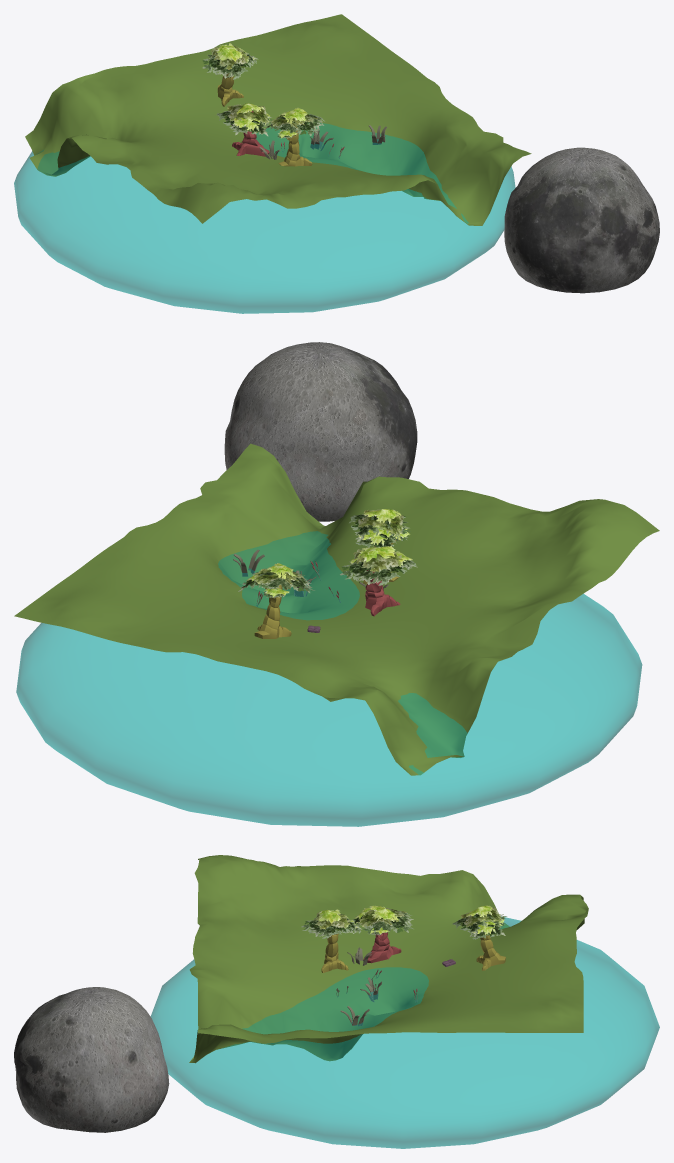
File: forest_environment_02.fbx
3 renders of one model, top to bottom at view 1: azimuth 30°, elevation 25°; view 2: azimuth 150°, elevation 25°; view 3: azimuth 270°, elevation 25°, orthographic. The views are drawn at different scales.
Visible parts, largest first — view 1: ground, temp_water, moon, tree_asset_03_03:pPlane1, pCylinder1, tree_asset_04_02:pCylinder1, pPlane1, tree_asset_04_02:pPlane5, tree_asset_03_03:pCylinder1; view 2: ground, temp_water, moon, tree_asset_04_02:pPlane1, tree_asset_03_03:pCylinder1, tree_asset_04_02:pCylinder1; view 3: ground, temp_water, moon, tree_asset_04_02:pCylinder1, pCylinder1, tree_asset_03_03:pCylinder1, pPlane1, tree_asset_04_02:pPlane1.
Boxes of the visible parts, bbox=[...] form: ground: bbox=[25, 14, 531, 225]; temp_water: bbox=[14, 123, 515, 313]; moon: bbox=[504, 147, 659, 293]; tree_asset_03_03:pPlane1: bbox=[202, 47, 258, 79]; pCylinder1: bbox=[278, 130, 312, 166]; tree_asset_04_02:pCylinder1: bbox=[232, 111, 269, 156]; pPlane1: bbox=[272, 114, 324, 135]; tree_asset_04_02:pPlane5: bbox=[227, 104, 269, 124]; tree_asset_03_03:pCylinder1: bbox=[217, 73, 243, 106]; ground: bbox=[14, 443, 659, 775]; temp_water: bbox=[16, 531, 642, 826]; moon: bbox=[224, 342, 417, 521]; tree_asset_04_02:pPlane1: bbox=[340, 560, 417, 585]; tree_asset_03_03:pCylinder1: bbox=[254, 584, 291, 638]; tree_asset_04_02:pCylinder1: bbox=[365, 569, 400, 616]; ground: bbox=[189, 855, 588, 1063]; temp_water: bbox=[150, 916, 659, 1148]; moon: bbox=[14, 987, 169, 1132]; tree_asset_04_02:pCylinder1: bbox=[364, 932, 401, 963]; pCylinder1: bbox=[321, 933, 348, 972]; tree_asset_03_03:pCylinder1: bbox=[476, 934, 505, 970]; pPlane1: bbox=[301, 914, 361, 938]; tree_asset_04_02:pPlane1: bbox=[363, 910, 413, 932].
Size of the model in its own units: 232 by 85.49 by 286.
